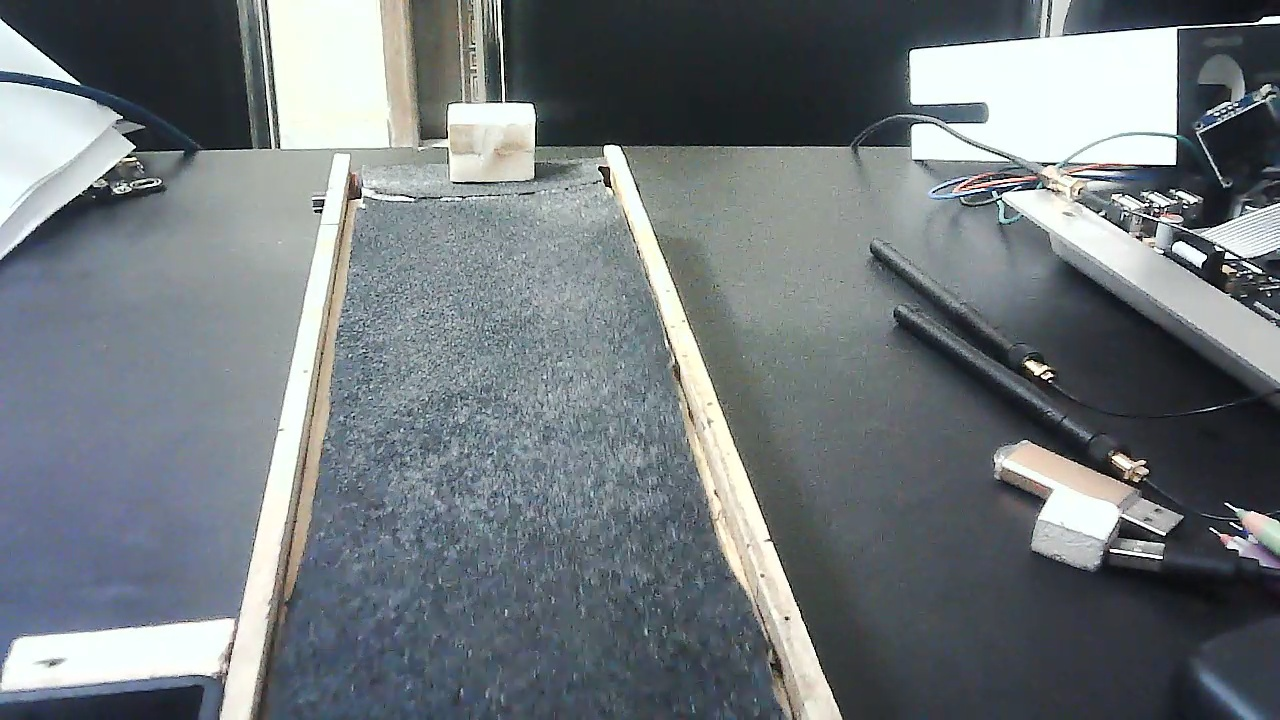Medium: (447, 98, 535, 186)
